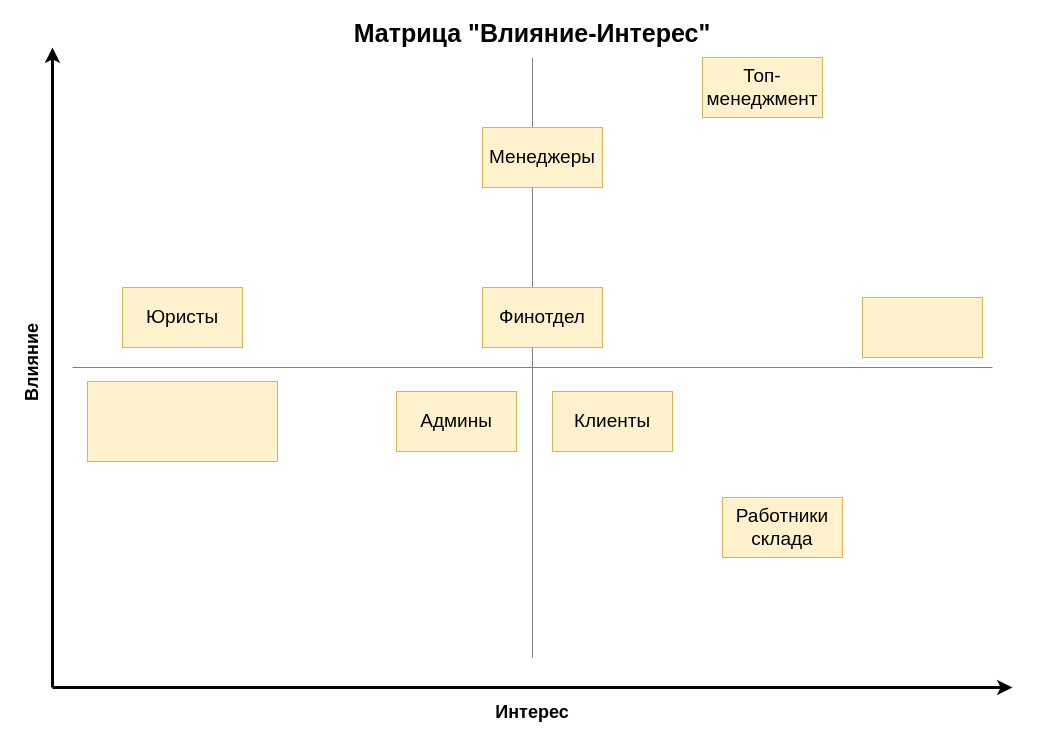
This 1039x744 diagram has some shape labels left out. The centre of each missing label's shape, as x and y in pixels:
External Partners (печенье, оплата): the point at 182,421
Разработчики: the point at 922,327
